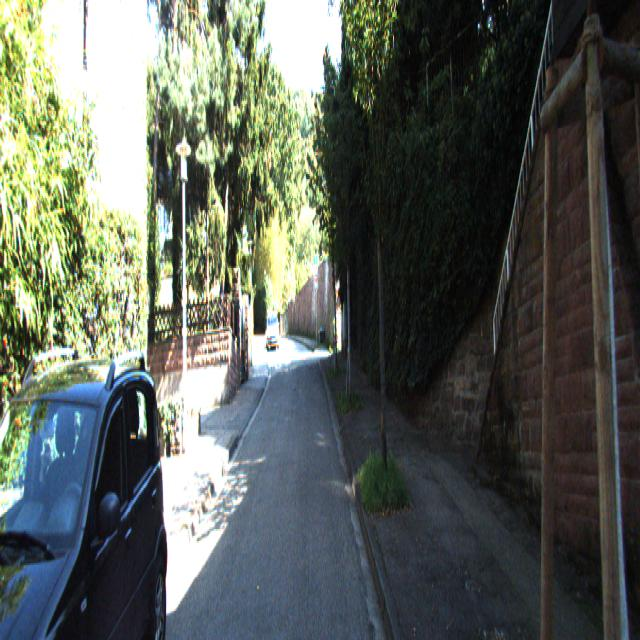Car: (0, 323, 167, 638), (266, 309, 280, 351)
